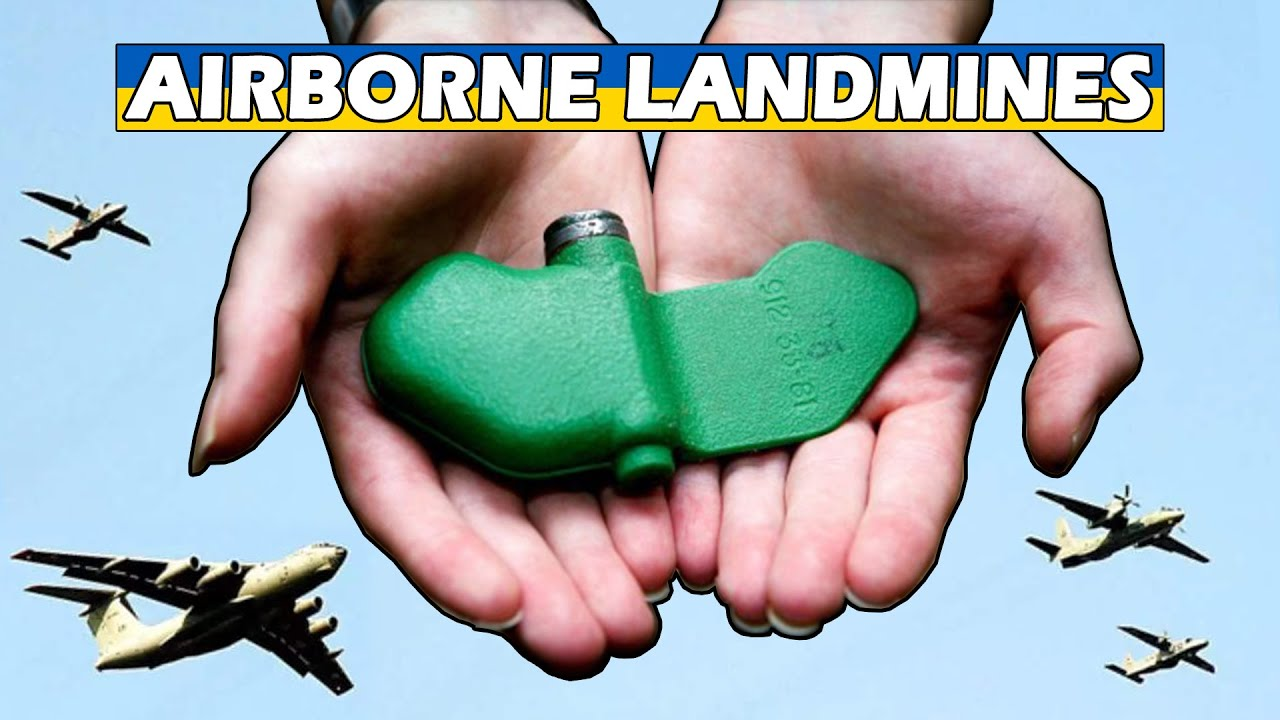butterfly: (359, 197, 910, 491)
